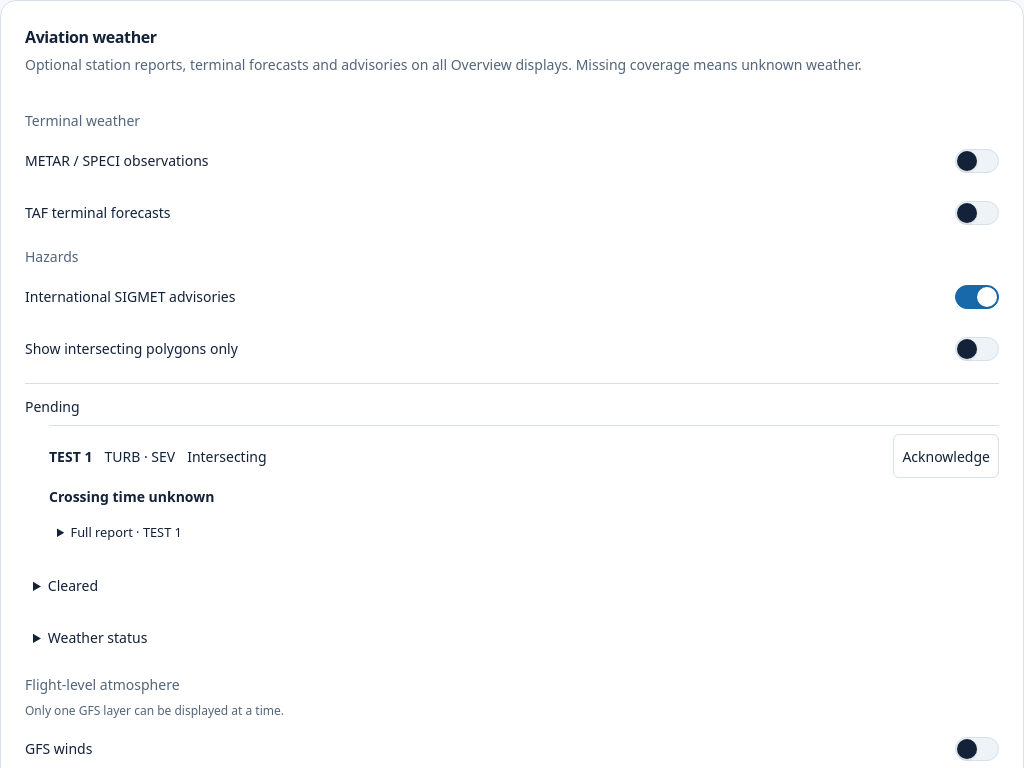
it: lists matching bulletins in route order rather than attention order and labels simulation geometry
Check: the number of list items is 1, box [49, 425, 999, 559]
Check: the list item shows "TEST 1", box [49, 446, 92, 466]
Click the heading "Cleared": point(73, 586) [48, 576, 98, 595]
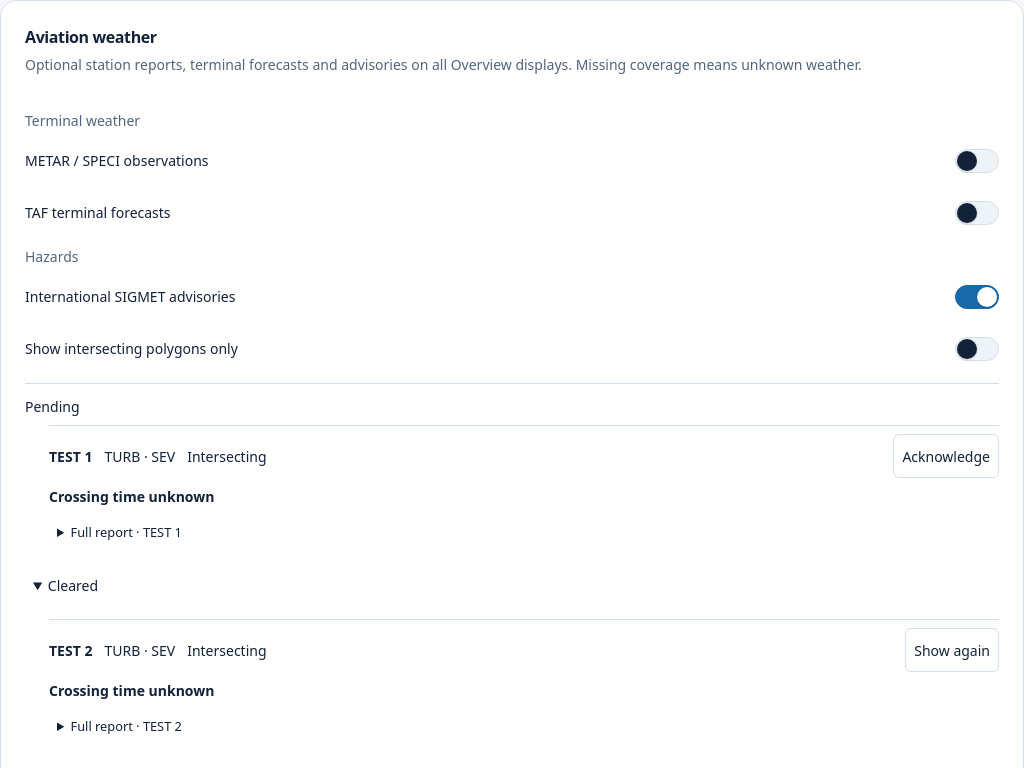
Check: the button "Show again" is enabled, box [905, 628, 999, 672]
